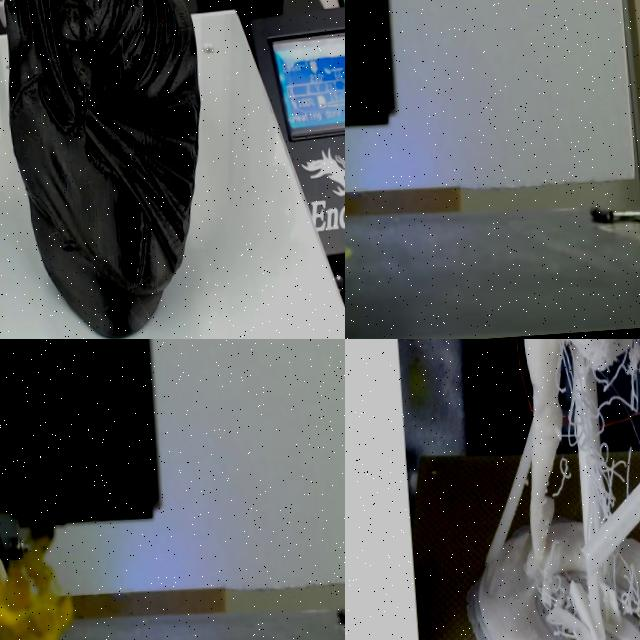spaghetti: (522, 339, 640, 640), (0, 521, 92, 640), (532, 541, 640, 640), (577, 359, 640, 509), (549, 339, 588, 460)
